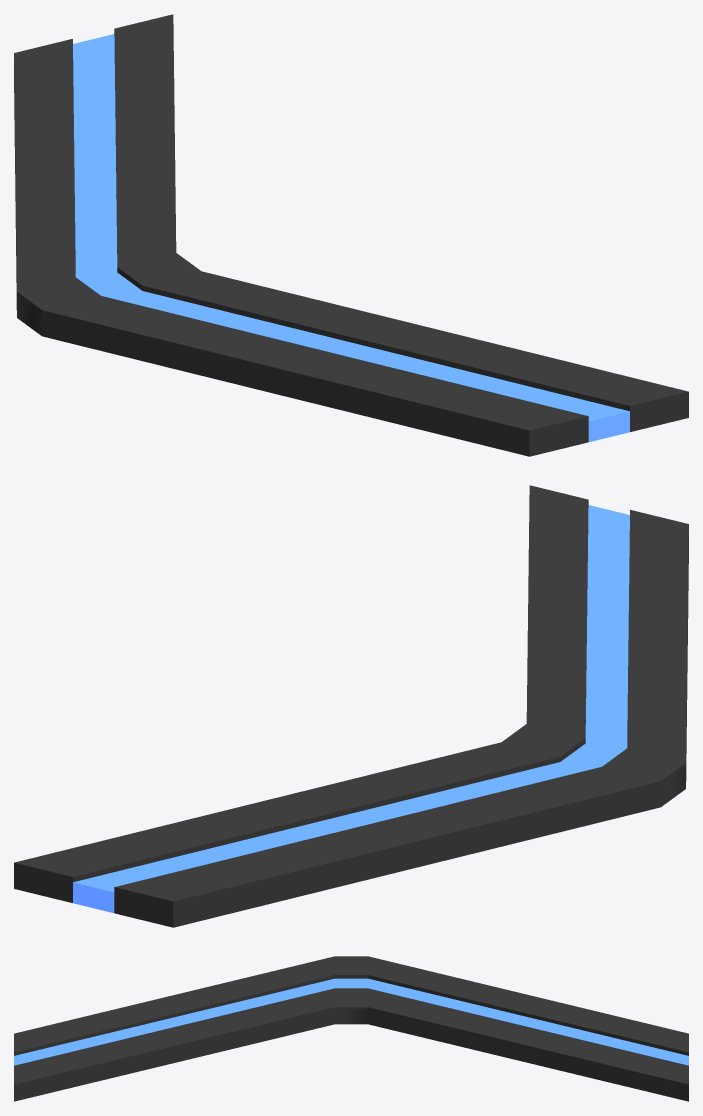
Rendered from booster_short_blue.fbx.
The picture shows the model from 3 angles, top to bottom: view 1: azimuth 30°, elevation 25°; view 2: azimuth 150°, elevation 25°; view 3: azimuth 270°, elevation 25°; orthographic projection. The views are drawn at different scales.
Visible parts, largest first — view 1: booster_short_blue; view 2: booster_short_blue; view 3: booster_short_blue.
Part boxes in pixels (left/top/right/bottom): booster_short_blue: left=14, top=14, right=688, bottom=456; booster_short_blue: left=14, top=485, right=688, bottom=927; booster_short_blue: left=14, top=956, right=688, bottom=1101.
Bounding box in the file's own units: 2.52 × 0.1573 × 5.6.
